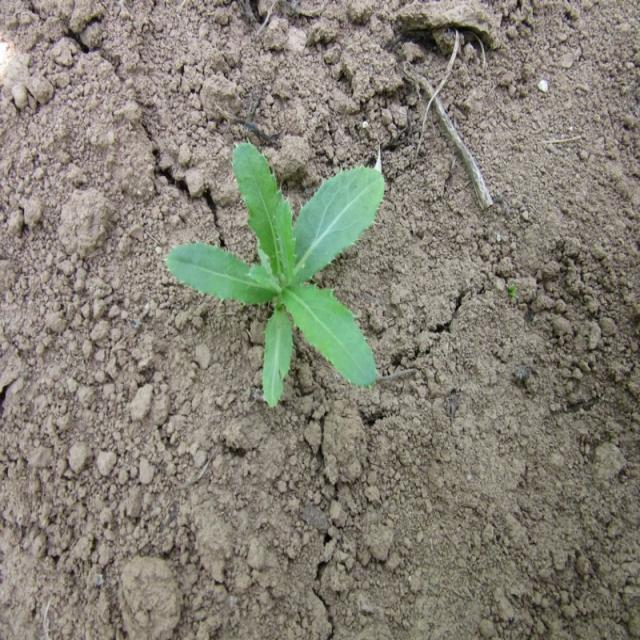field_thistle: (146, 122, 390, 399)
